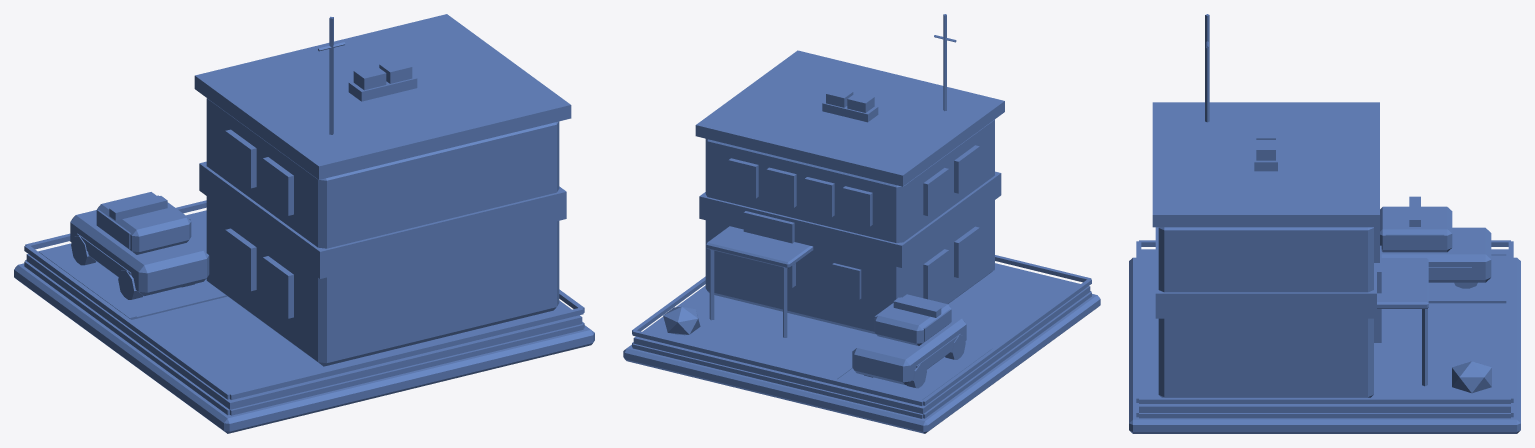
3 renders of one model, left to right at view 1: azimuth 30°, elevation 25°; view 2: azimuth 150°, elevation 25°; view 3: azimuth 270°, elevation 25°, orthographic. The views are drawn at different scales.
Visible parts, largest first — view 1: corpo; view 2: corpo; view 3: corpo.
Part boxes in pixels (bbox=[...]): corpo: bbox=[14, 14, 594, 433]; corpo: bbox=[623, 14, 1100, 433]; corpo: bbox=[1129, 14, 1520, 433].
Bounding box in the file's own units: 2 × 1.81 × 2.
